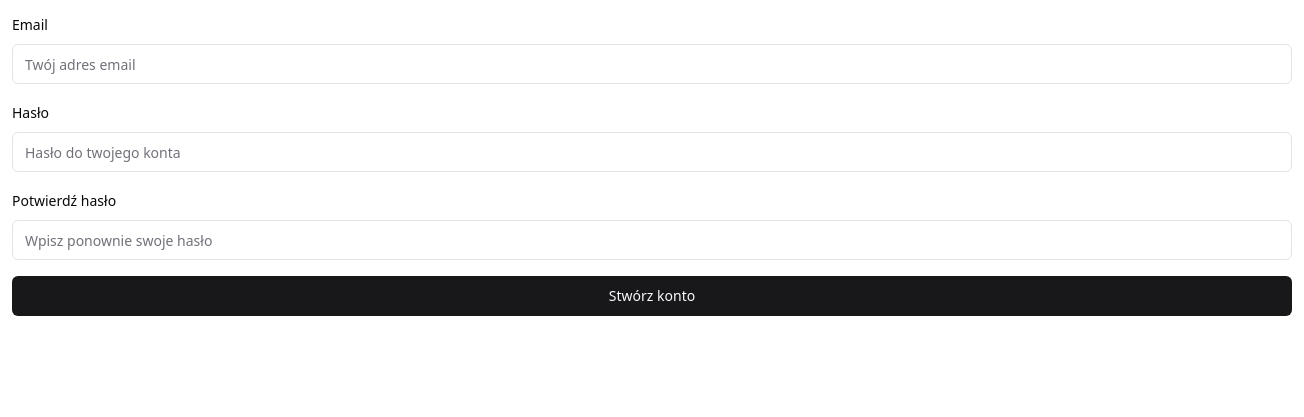
Test: SignUpForm › should display EMAIL_REQUIRED_MESSAGE if the user submitted the form with an empty email field
Clear the field with test id "email-input" at (652, 64), box top-left (12, 44), bottom-right (1292, 84)
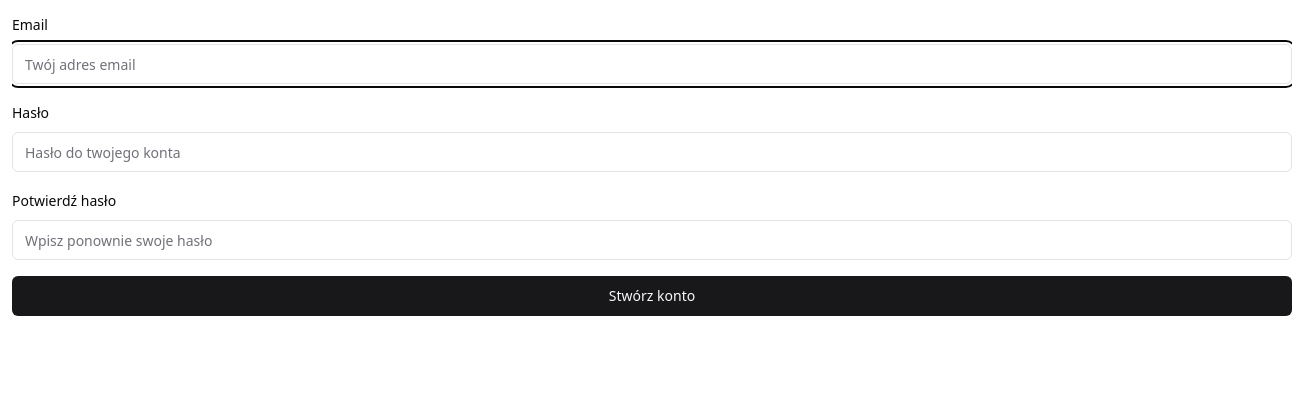
Click the button with test id "submit-btn" at (652, 296), box top-left (12, 276), bottom-right (1292, 316)
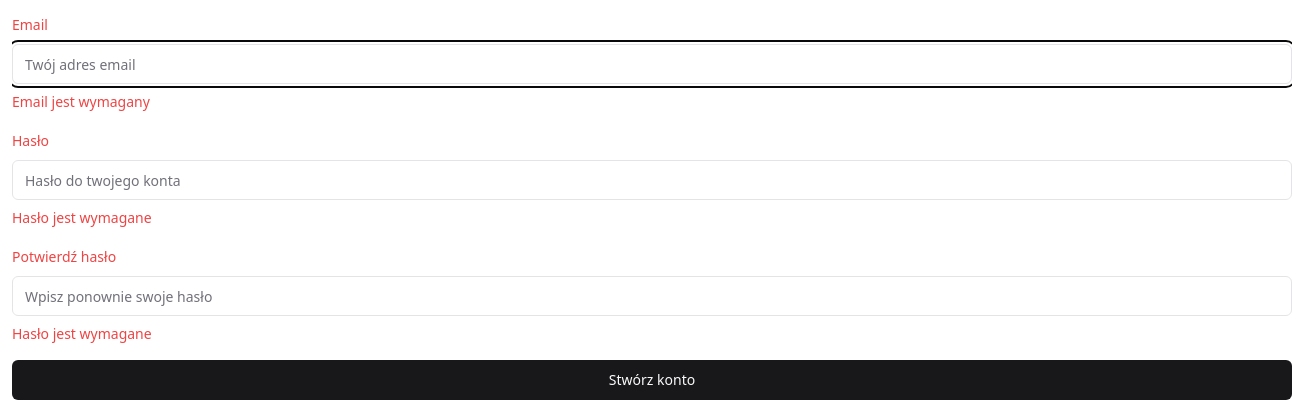
Result: the text with test id "email-errors" reads "Email jest wymagany" at top-left (12, 92), bottom-right (150, 111)
